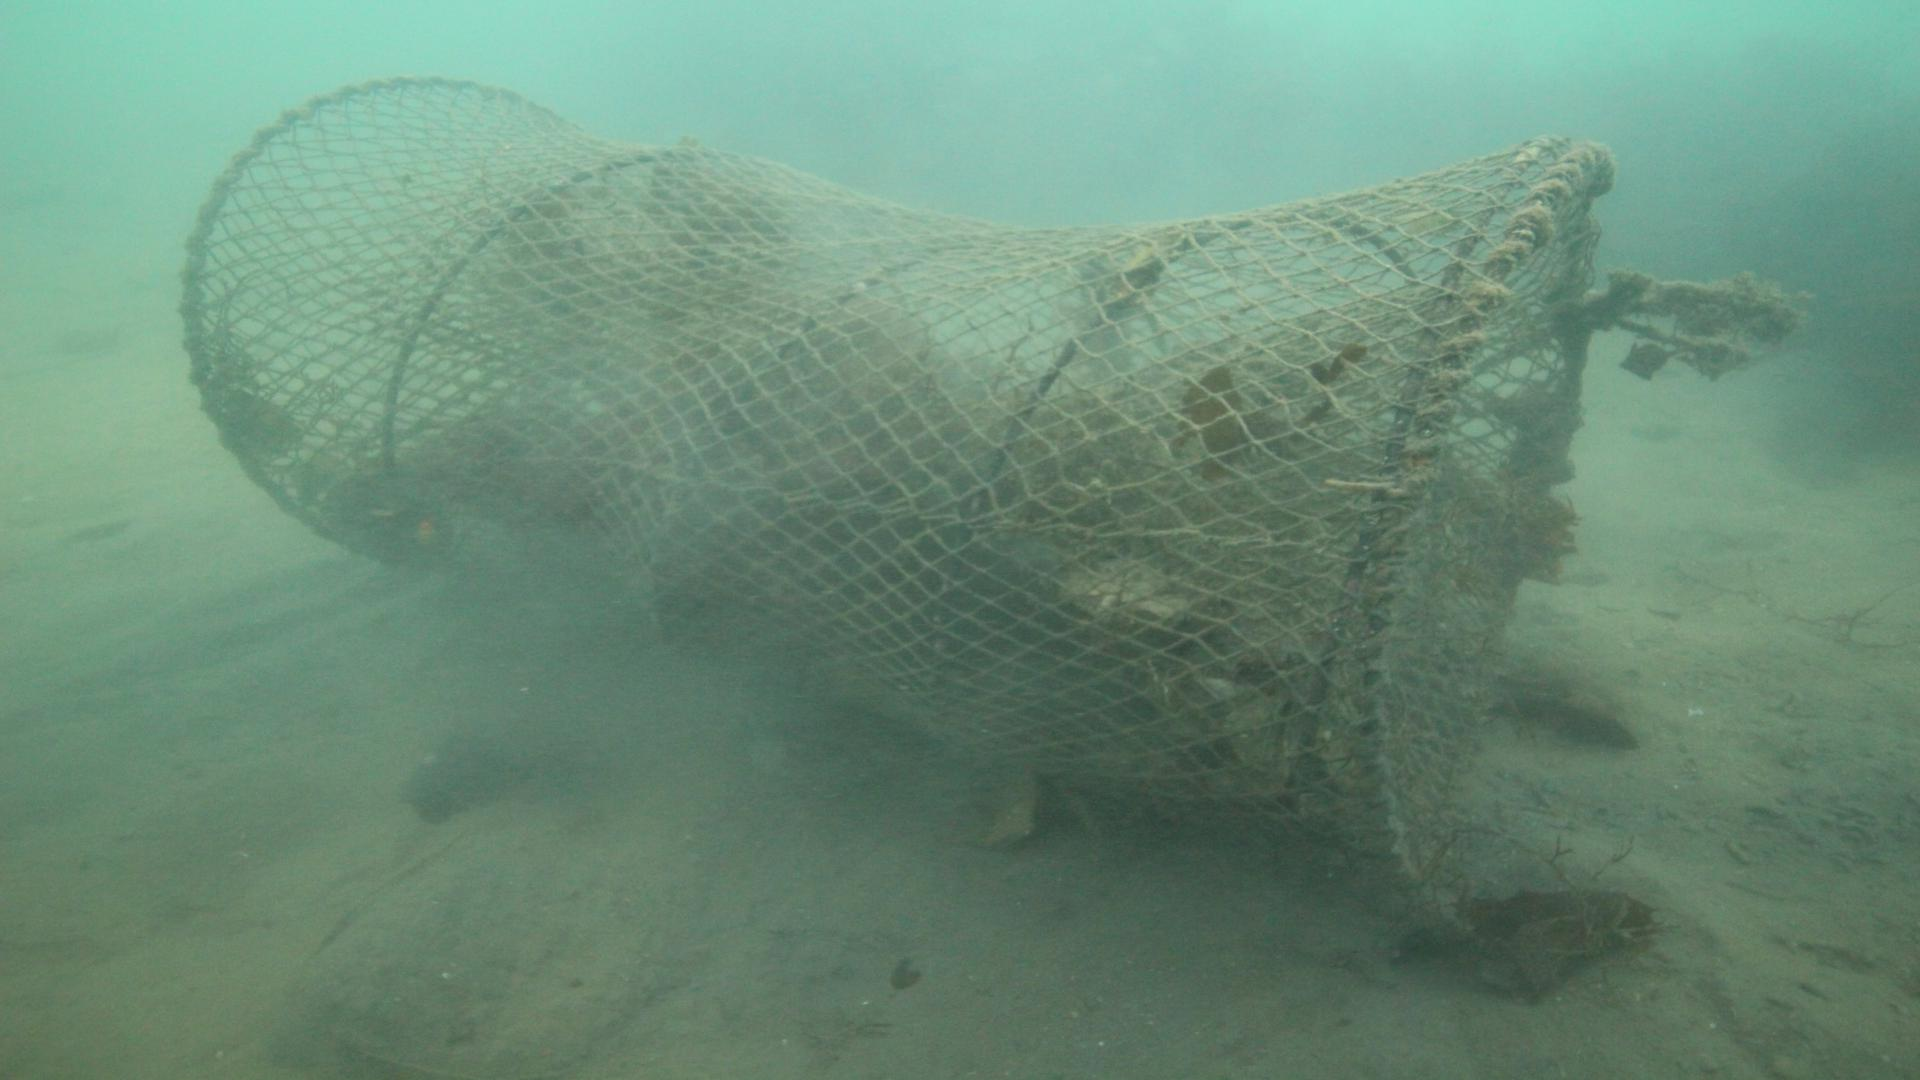spring fish trap: (175, 71, 1614, 884)
